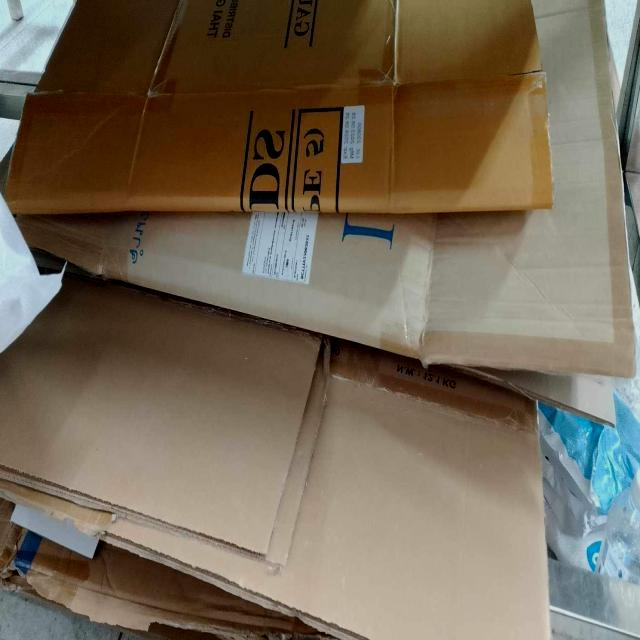General: (3, 1, 638, 637)
Sharps: (10, 501, 103, 560)
